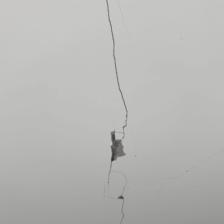Medium: (86, 5, 151, 219)
